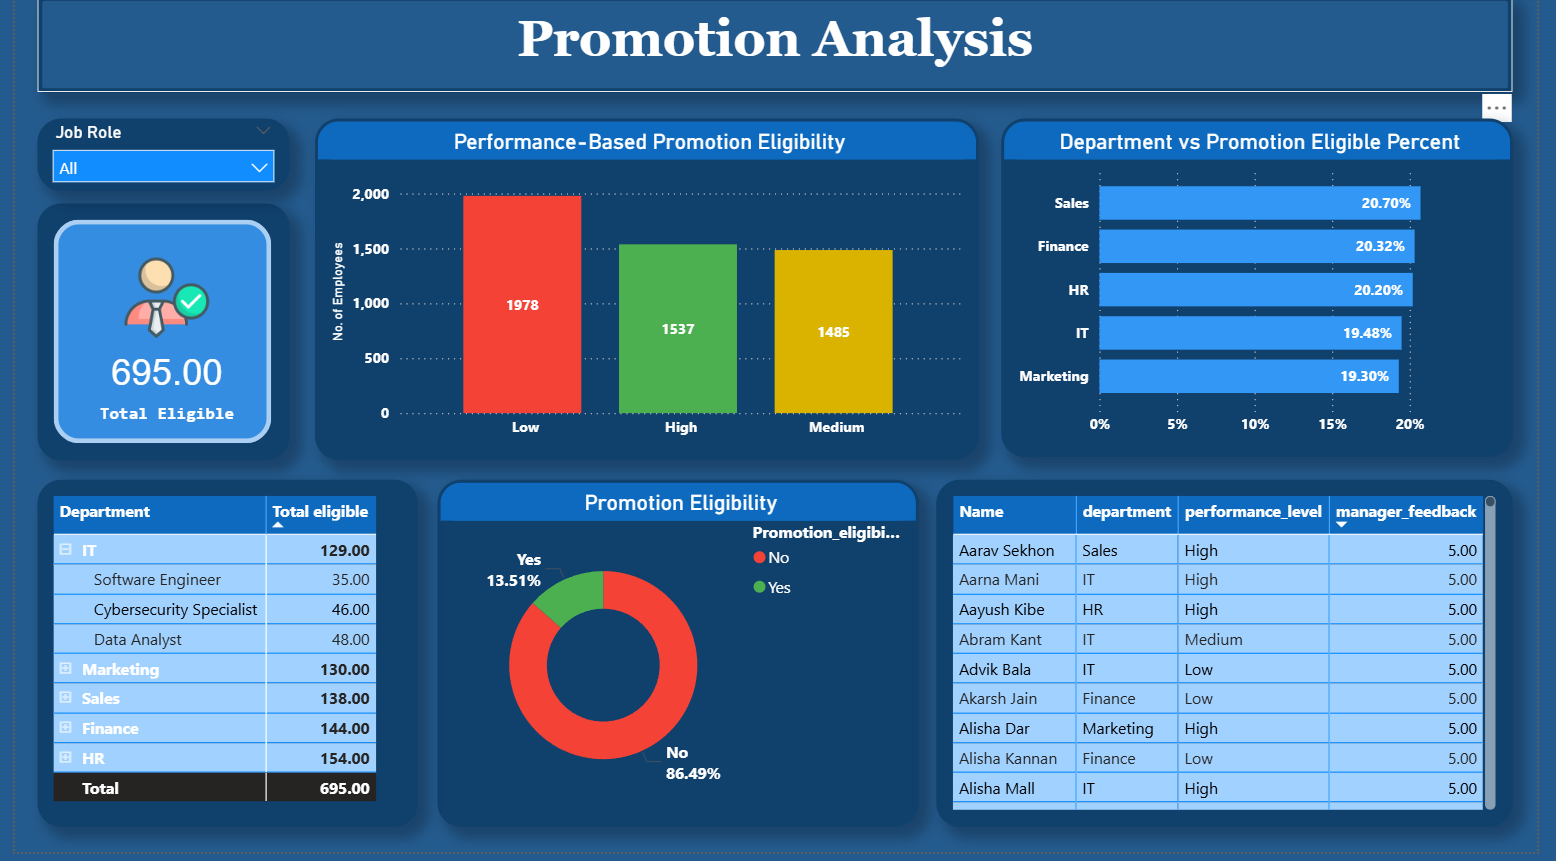

Layout of this report page (visuals, bound fields, positions):
{"tool":"powerbi","page":{"name":"Promotion Analysis","canvas":[1280,720],"ordinal":1},"visuals":[{"type":"clusteredColumnChart","title":"Performance-Based Promotion Eligibility","fields":{"Y":["CountNonNull(employees employee_performance.promotion_eligibility)"],"Category":["employees employee_performance.performance_level"]},"box":[252.3,103.5,558.1,287.2],"z":0},{"type":"donutChart","title":"Promotion Eligibility","fields":{"Category":["employees employee_performance.promotion_eligibility"],"Y":["Sum(employees employee_performance.employee_id)"]},"box":[355.8,407,404.7,291.9],"z":1000},{"type":"tableEx","fields":{"Values":["employees employee_performance.name","employees employee_performance.department","employees employee_performance.performance_level","employees employee_performance.manager_feedback"]},"box":[774.4,407,484.9,291.9],"z":2000},{"type":"cardVisual","fields":{"Data":["Sum(employees v_promotion_dashboard.eligible)"]},"box":[18.6,174.4,211.6,216.3],"z":3000},{"type":"textbox","box":[18.6,0,1240.7,81.4],"z":4000},{"type":"clusteredBarChart","title":"Department vs Promotion Eligible Percent","fields":{"Category":["employees employee_performance.department"],"Y":["CountNonNull(employees employee_performance.promotion_eligibility)"]},"box":[829.1,103.5,430.2,284.9],"z":5000},{"type":"pivotTable","fields":{"Rows":["employees v_promotion_dashboard.department","employees v_promotion_dashboard.job_role"],"Values":["Sum(employees v_promotion_dashboard.eligible)"]},"box":[18.9,406.9,319.6,292.3],"z":6000},{"type":"slicer","fields":{"Values":["employees v_promotion_dashboard.job_role"]},"box":[18.6,103.5,211.6,60.5],"z":7001}]}

Visuals, with their boxes in screenshot pixels (x1, y1, x2, y2), scaled from the page's 1280x720 canvas onto the 1556x861 screenshot:
"Performance-Based Promotion Eligibility" clusteredColumnChart: locate(307, 124, 985, 467)
"Promotion Eligibility" donutChart: locate(433, 487, 924, 836)
tableEx - employees employee_performance.name x employees employee_performance.department: locate(941, 487, 1531, 836)
cardVisual - Sum(employees v_promotion_dashboard.eligible): locate(23, 209, 280, 467)
textbox: locate(23, 0, 1531, 97)
"Department vs Promotion Eligible Percent" clusteredBarChart: locate(1008, 124, 1531, 464)
pivotTable - employees v_promotion_dashboard.department x employees v_promotion_dashboard.job_role: locate(23, 487, 411, 836)
slicer - employees v_promotion_dashboard.job_role: locate(23, 124, 280, 196)
